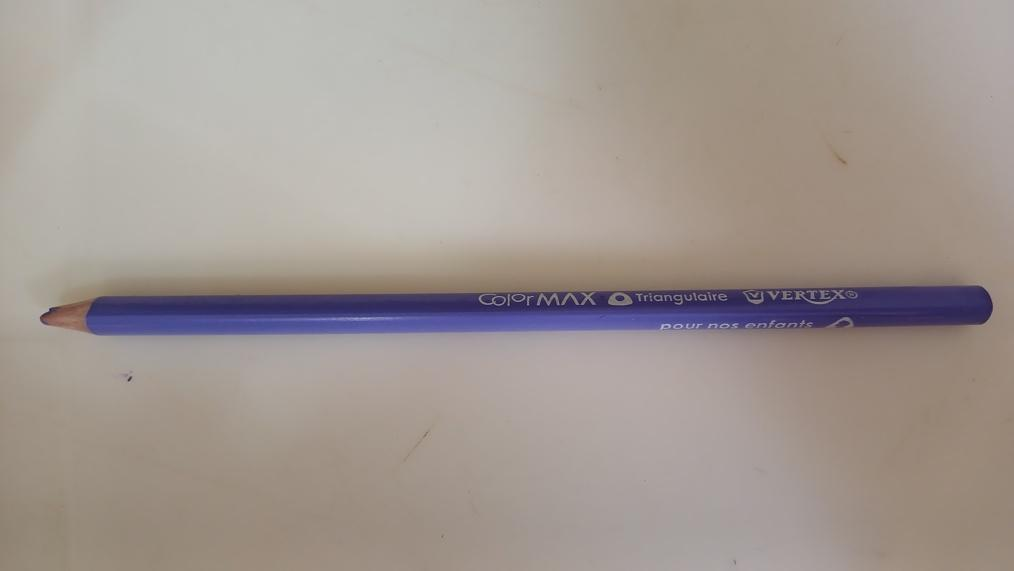Pencil: (43, 291, 1002, 332)
